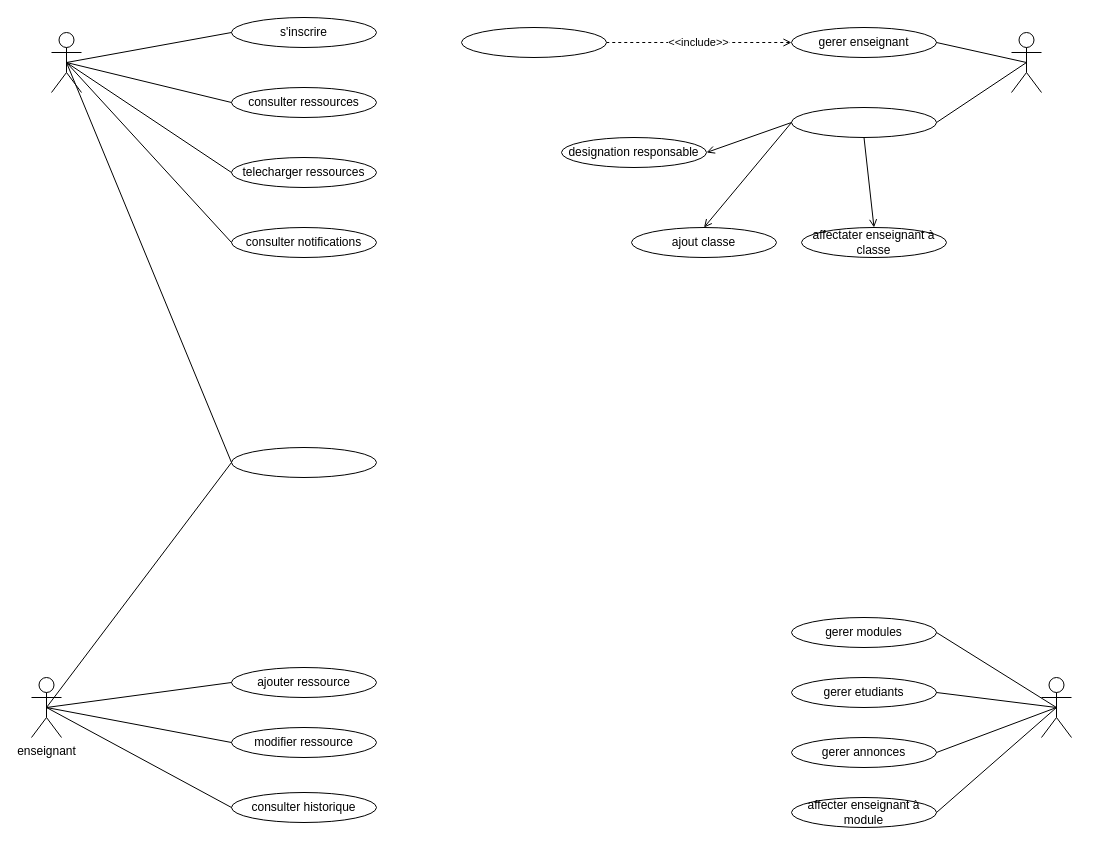
This 1106x845 diagram has some shape labels left out. The centre of each missing label's shape, as x and y in pixels:
"administrateur" belongs at point 1026,62.
"ajout enseignant" belongs at point 533,42.
"consulter annance" belongs at point 303,462.
"etudiant" belongs at point 66,62.
"gerer classes" belongs at point 863,122.
"responsable" belongs at point 1056,707.
